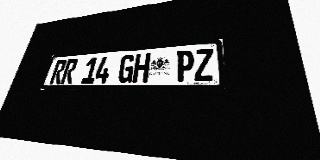1: (81, 57, 99, 84)
4: (94, 56, 112, 83)
G: (117, 54, 136, 83)
H: (132, 53, 151, 83)
P: (175, 50, 194, 82)
R: (60, 59, 79, 84), (49, 59, 67, 84)
Z: (194, 48, 214, 81)
